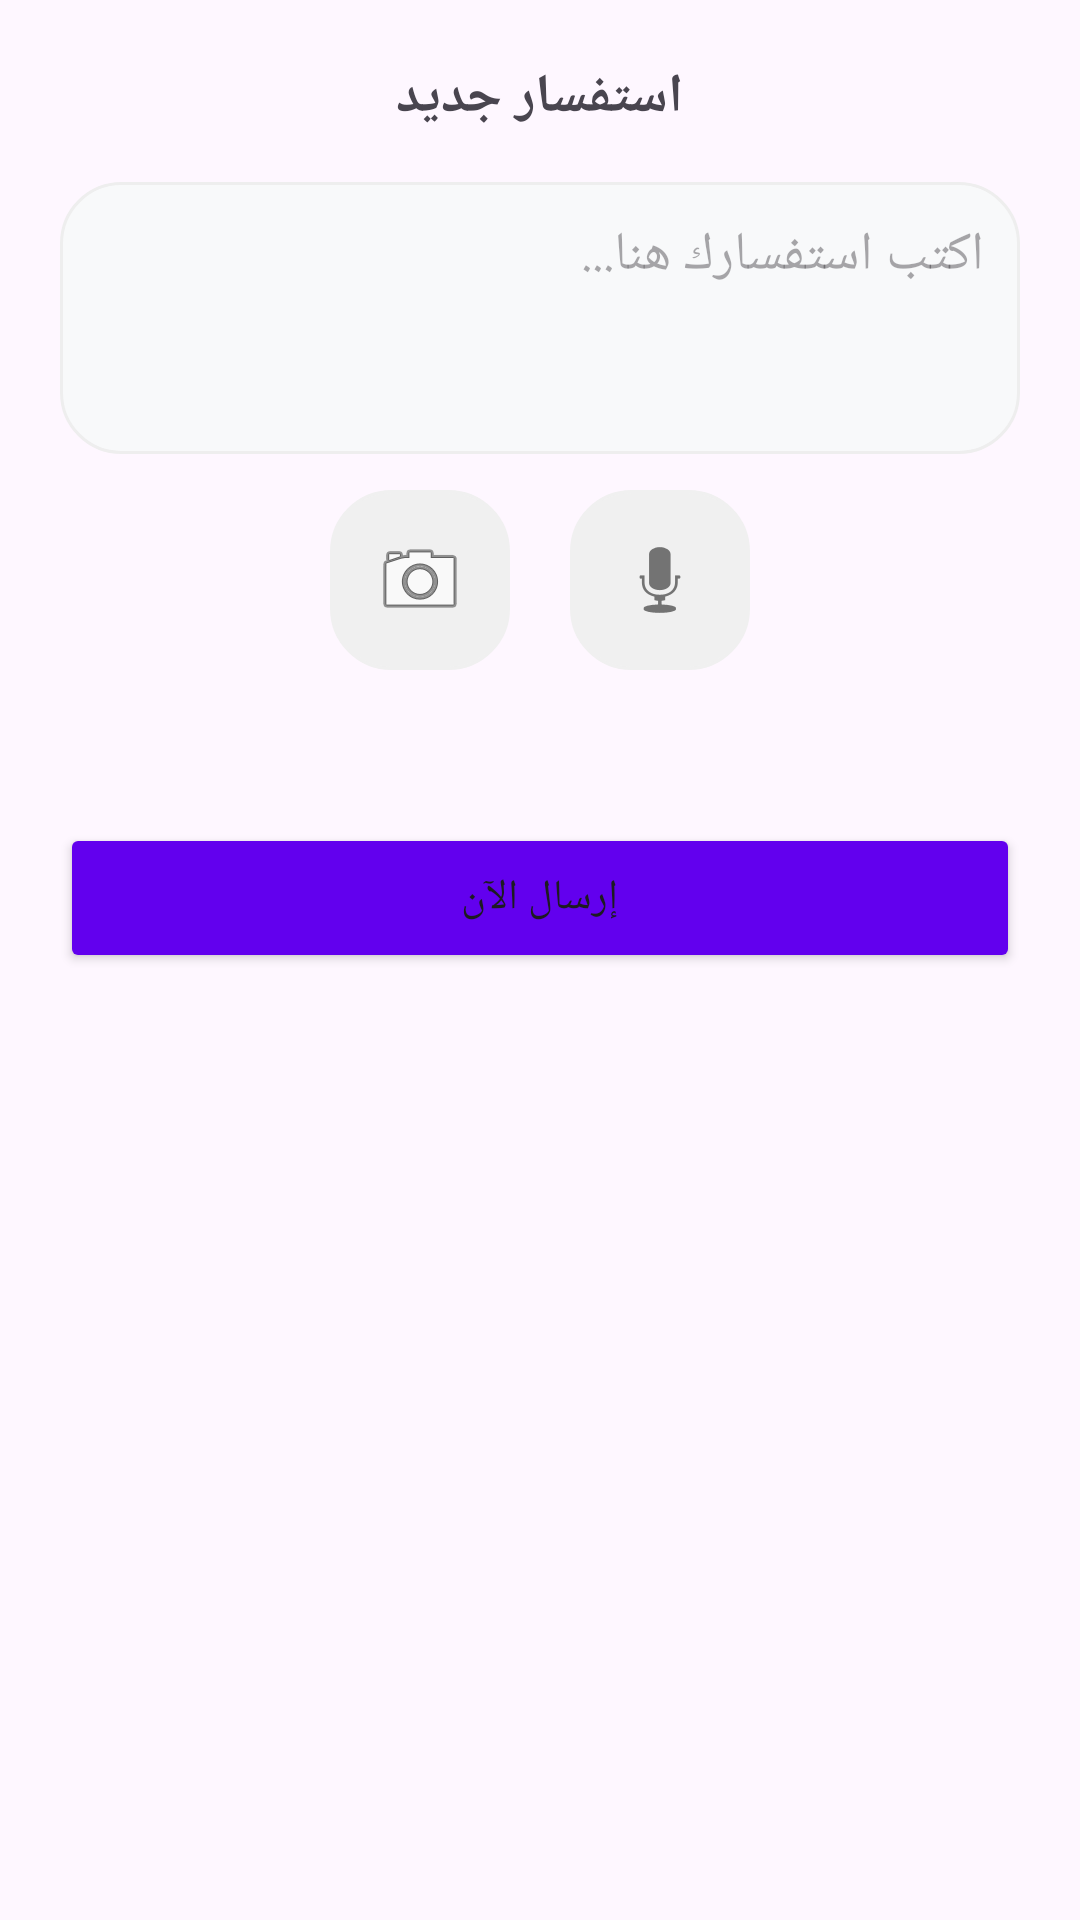

Screen size 1080*1920. Icon name, then its center in pixels as (x=x, y=y):
camera: (x=420, y=580)
speak now: (x=660, y=580)
